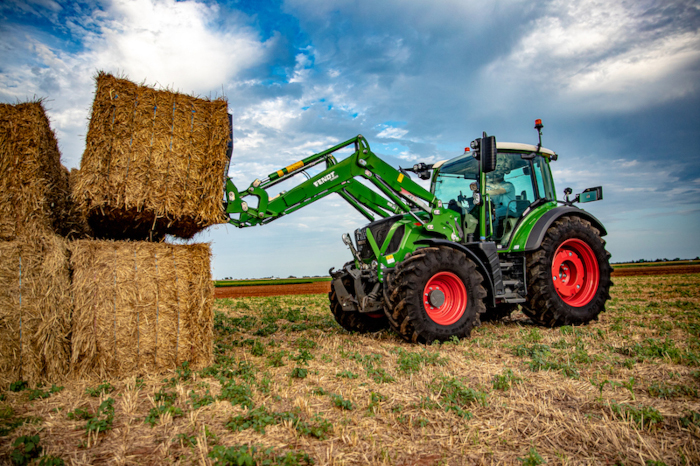tractor: (235, 115, 617, 342)
